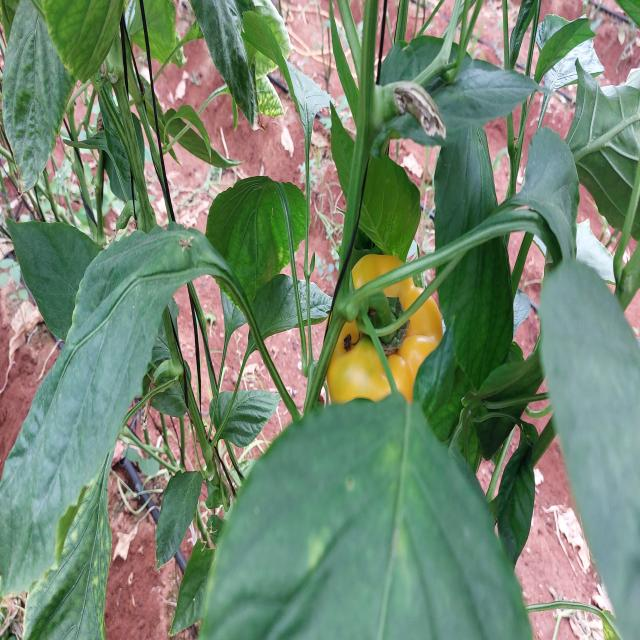Yellow-Ready-to-Harvest: (330, 250, 447, 420)
